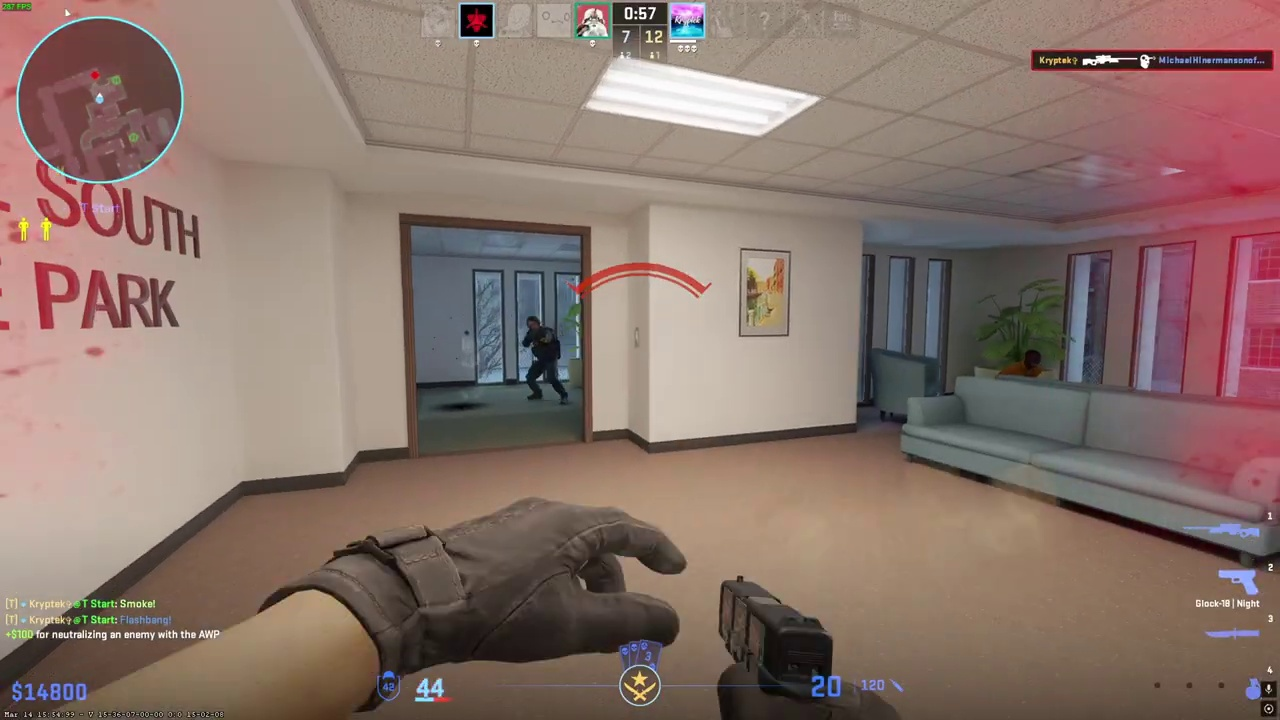CT: (521, 316, 565, 405)
